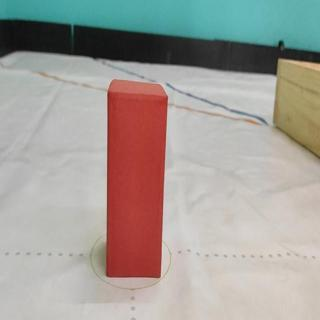redbox: (105, 79, 168, 278)
